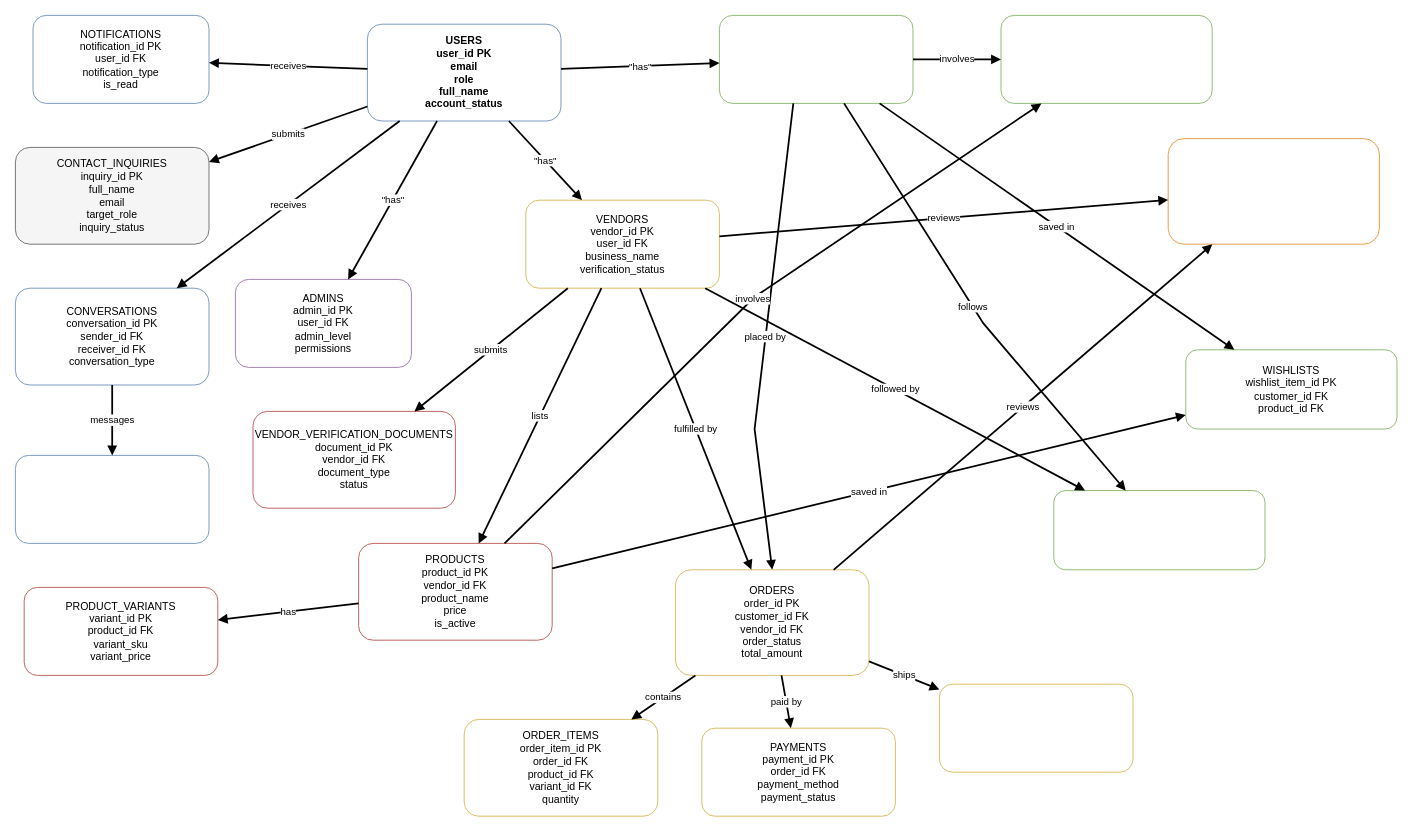
Image size: 1412x832. Some labels were removed from this diagram. The shapes that lost their labels are listed below. From the top down, each one's centre as x and y in pixels, then its label:
At (x=816, y=59): "CUSTOMERS customer_id PK user_id FK account_tier total_spent".
At (x=1106, y=59): "SHOPPING_CART cart_item_id PK customer_id FK product_id FK variant_id FK".
At (x=1273, y=191): "REVIEWS product_reviews / vendor_reviews rating customer_id FK order_id FK".
At (x=112, y=499): "MESSAGES message_id PK conversation_id FK sender_id FK receiver_id FK".
At (x=1159, y=530): "FOLLOWED_VENDORS follow_id PK customer_id FK vendor_id FK".
At (x=1036, y=727): "ORDER_SHIPMENTS shipment_id PK order_id FK tracking_number shipment_status".
